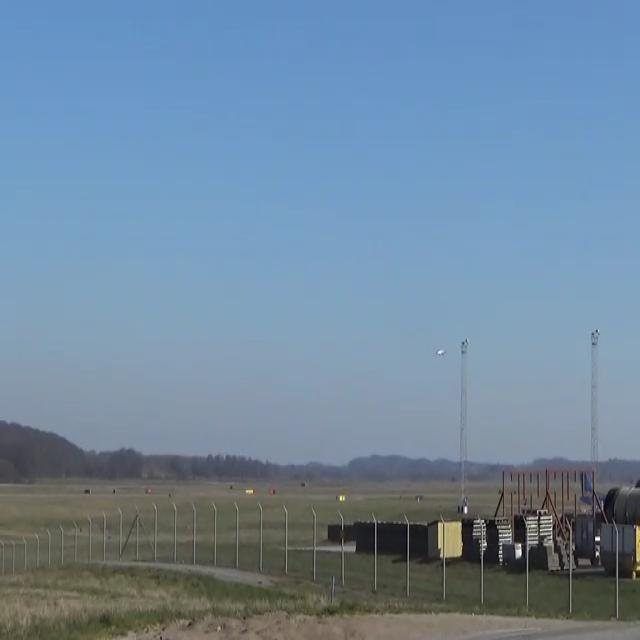AirPlane: (428, 341, 450, 364)
